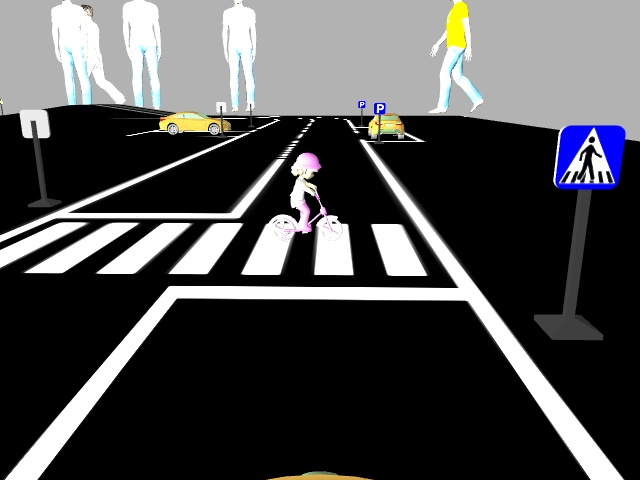Crosswalk: (551, 123, 626, 189)
Parking: (370, 101, 387, 114), (356, 99, 366, 108)
Pedestrian: (267, 153, 345, 245)
